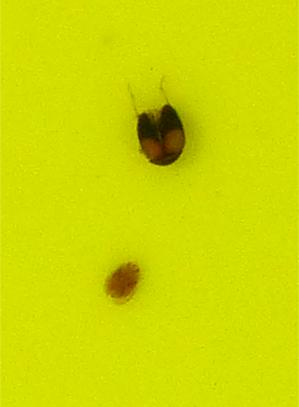Coleoptera: (131, 100, 199, 172), (100, 259, 145, 307)
